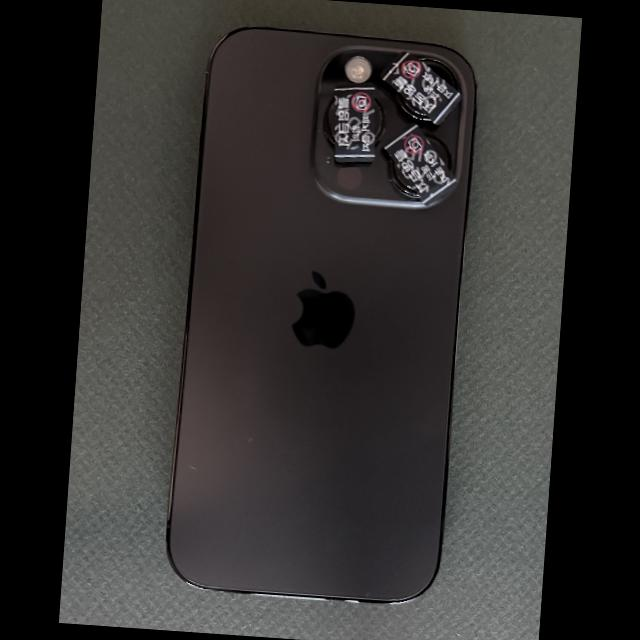lens: (418, 59, 456, 89), (389, 157, 417, 197), (322, 98, 333, 146)
phone: (165, 25, 477, 605)
sticker: (382, 122, 457, 206), (379, 50, 461, 125), (333, 82, 374, 162)
